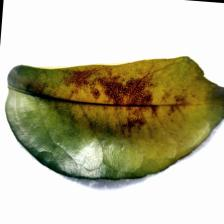black spot: (61, 62, 170, 143)
